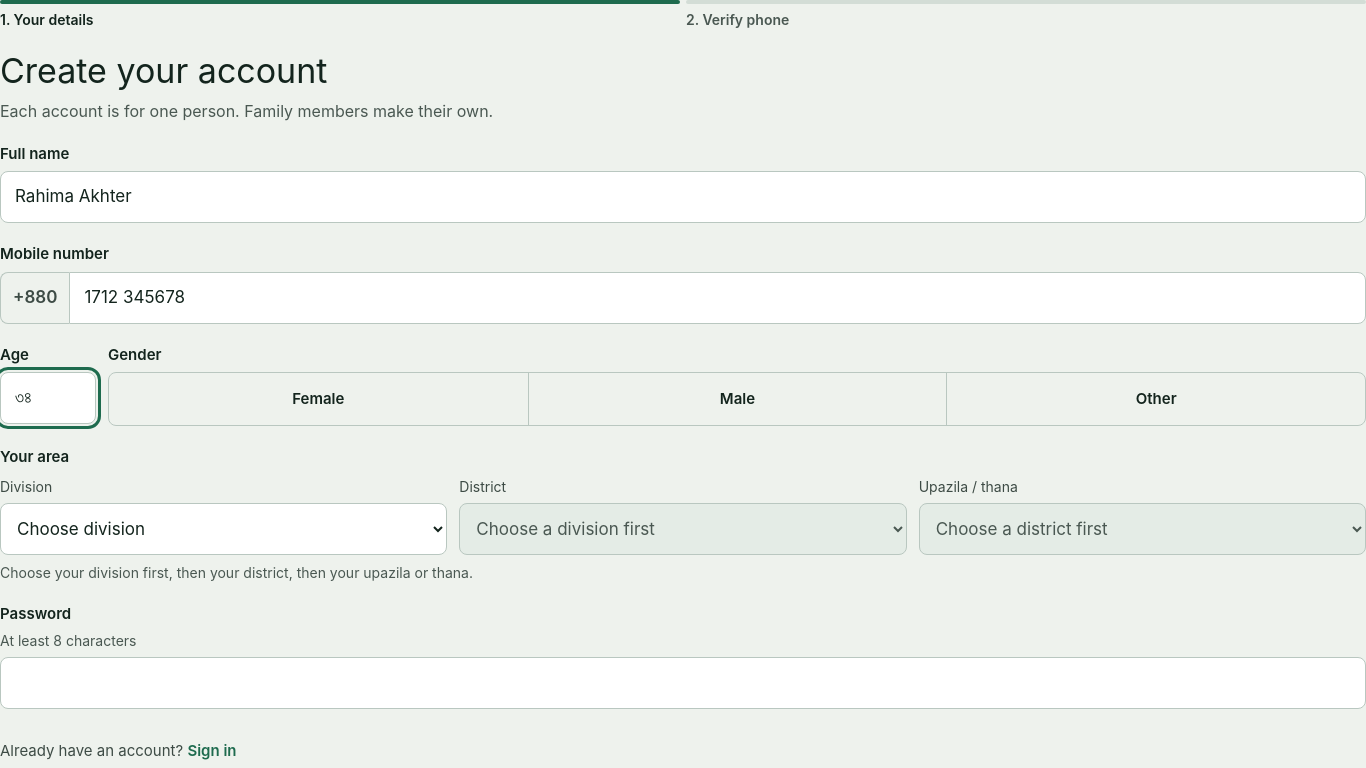
Test case: sign-up › shows the API's field errors in the page's language
Earlier steps of the test are not shown.
Step 1. Click the radio button labelled "Female" → [318, 398], box [292, 389, 344, 408]
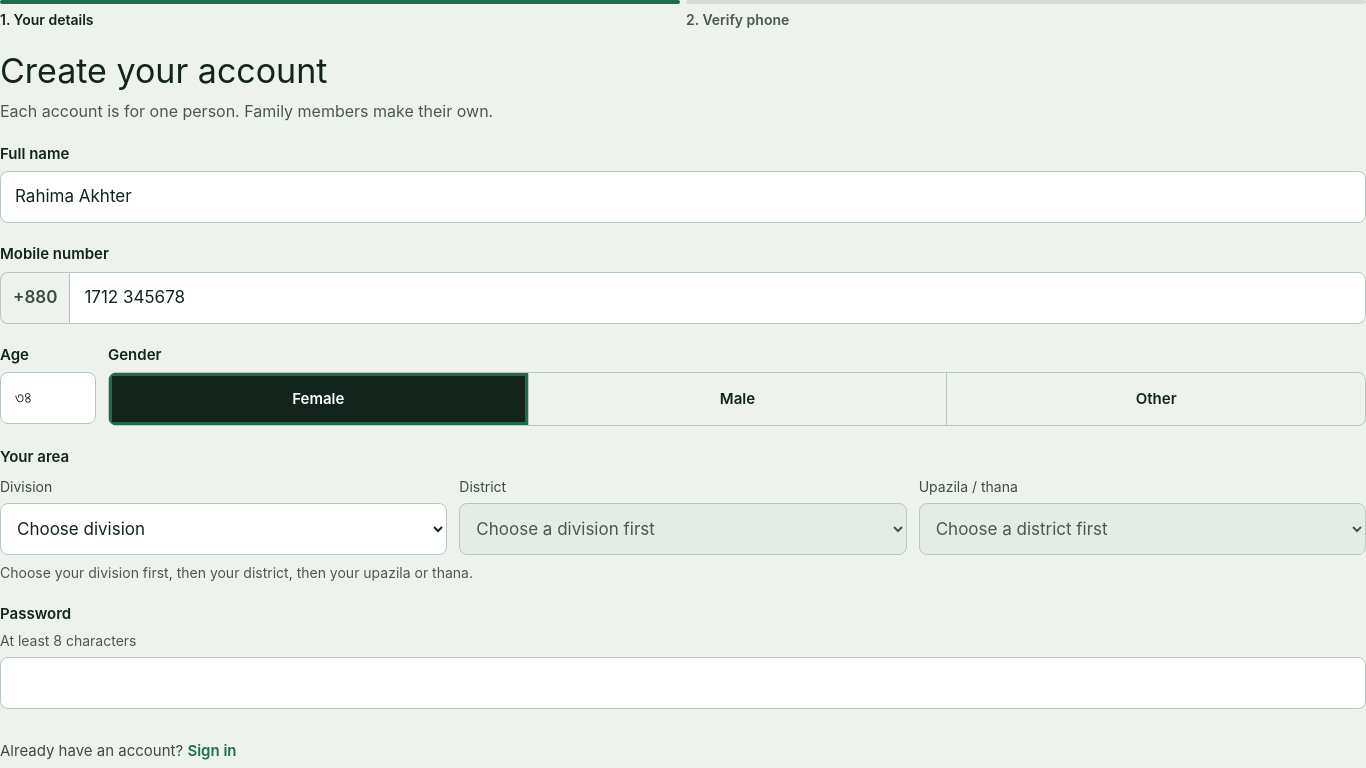
Step 2. Select "Dhaka" in the dropdown labelled "Division" → [224, 528], box [0, 502, 447, 554]
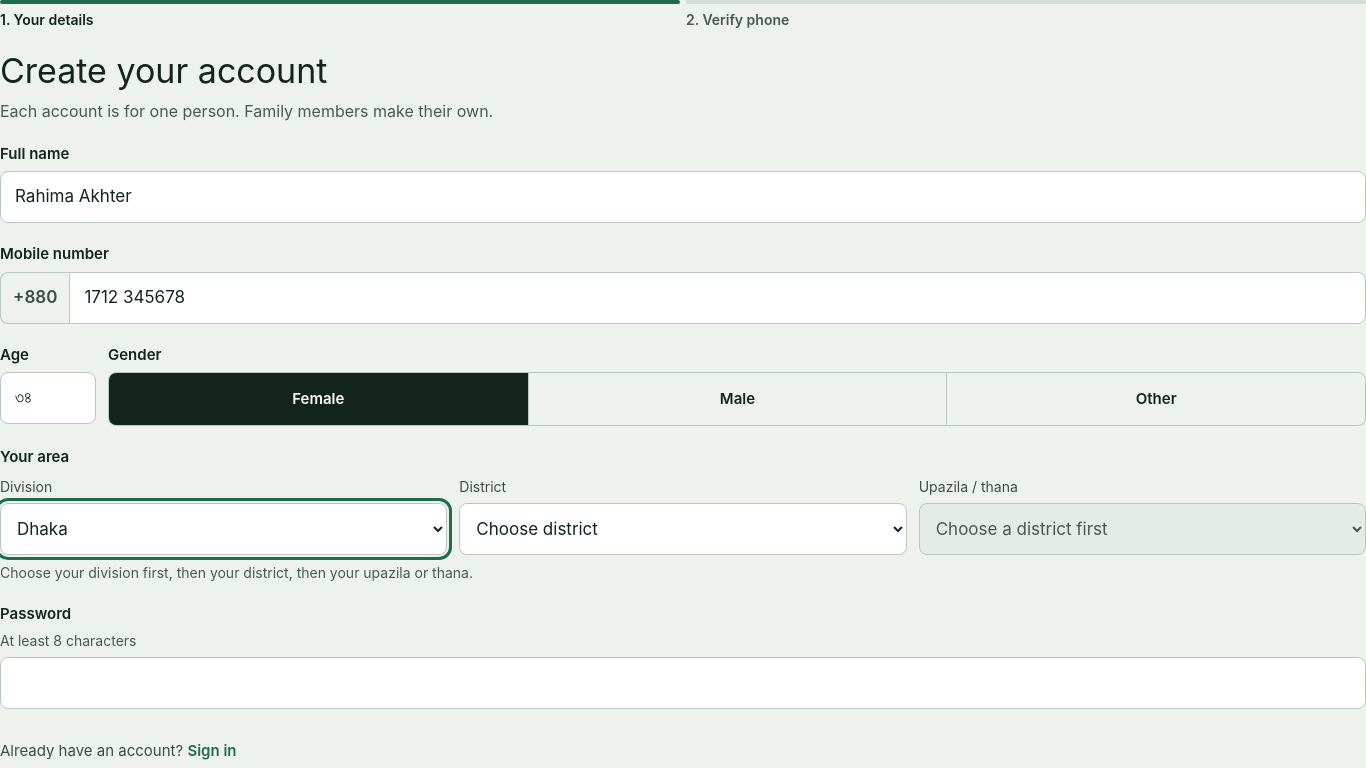
Now the dropdown labelled "District" is enabled
Step 3. Select "Gazipur" in the dropdown labelled "District" → [683, 528], box [459, 502, 907, 554]
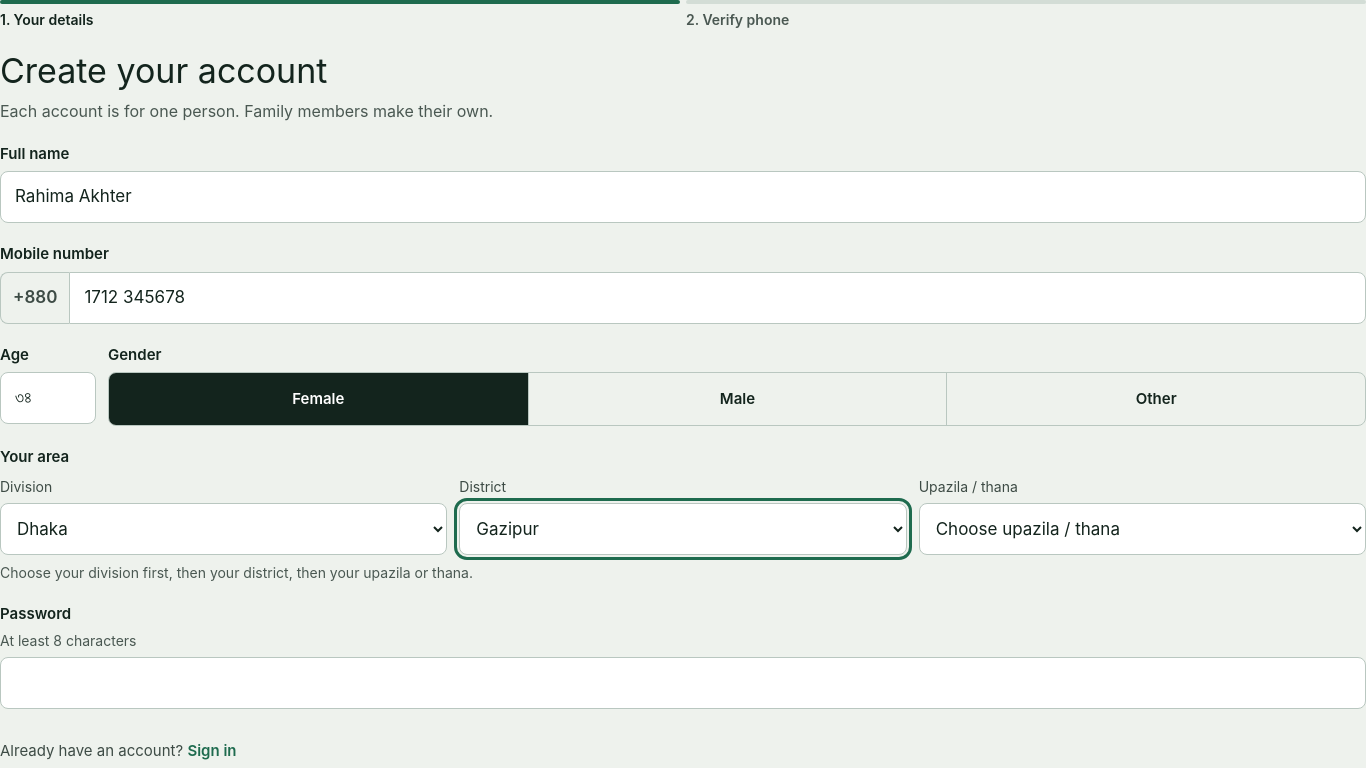
Now the dropdown labelled "Upazila / thana" is enabled
Step 4. Select "Kapasia" in the dropdown labelled "Upazila / thana" → [1142, 528], box [919, 502, 1365, 554]
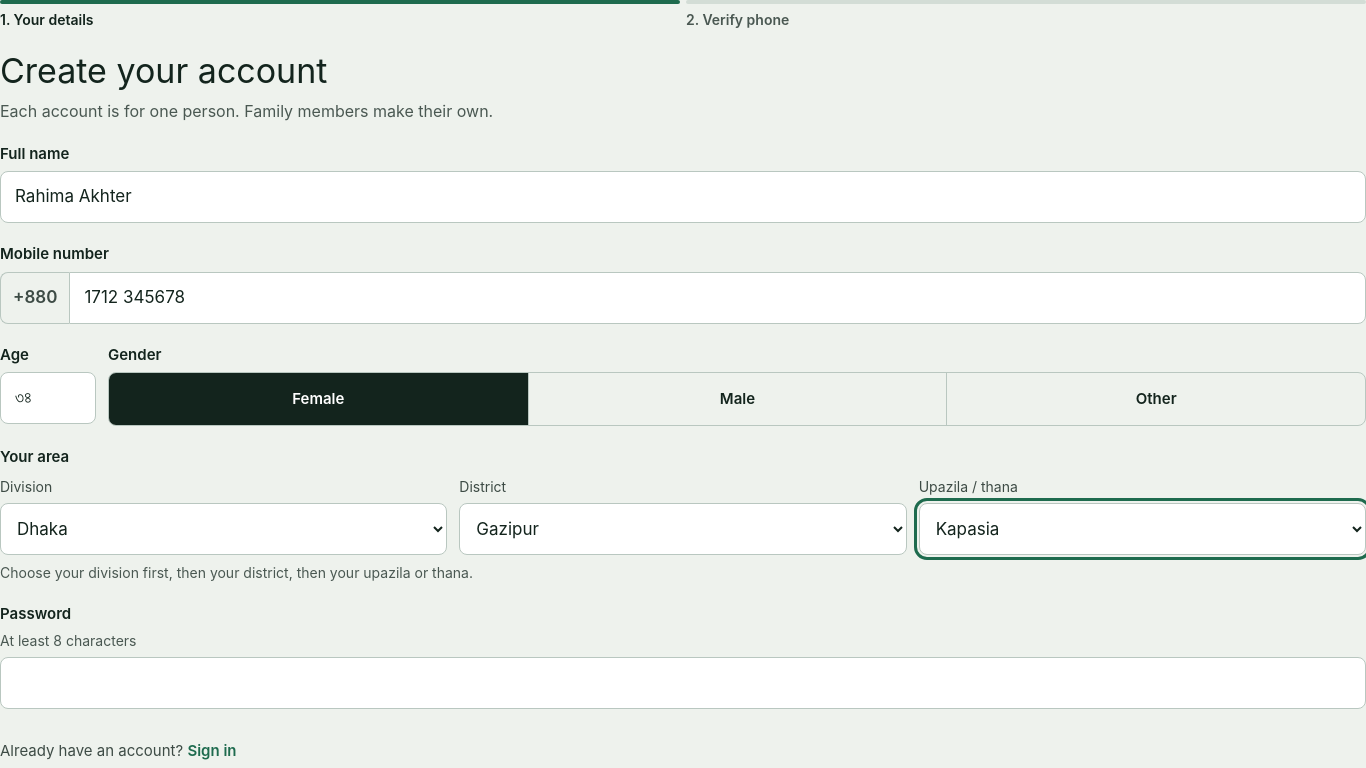
Step 5. Type "river-lamp-42-orchid" into the password field labelled "Password" → [683, 683], box [0, 657, 1365, 709]
(page scrolled)
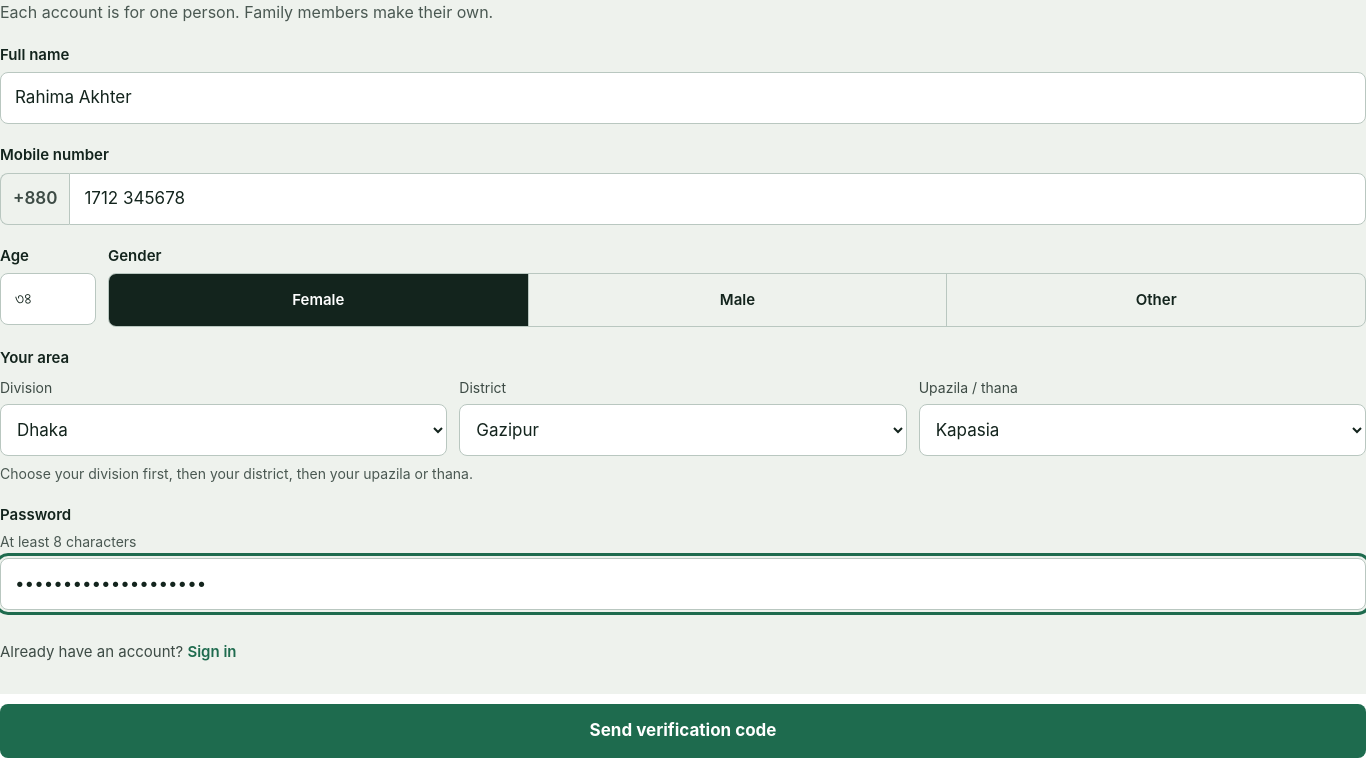
Step 6. Click the button "Send verification code" → [683, 731], box [0, 704, 1365, 758]
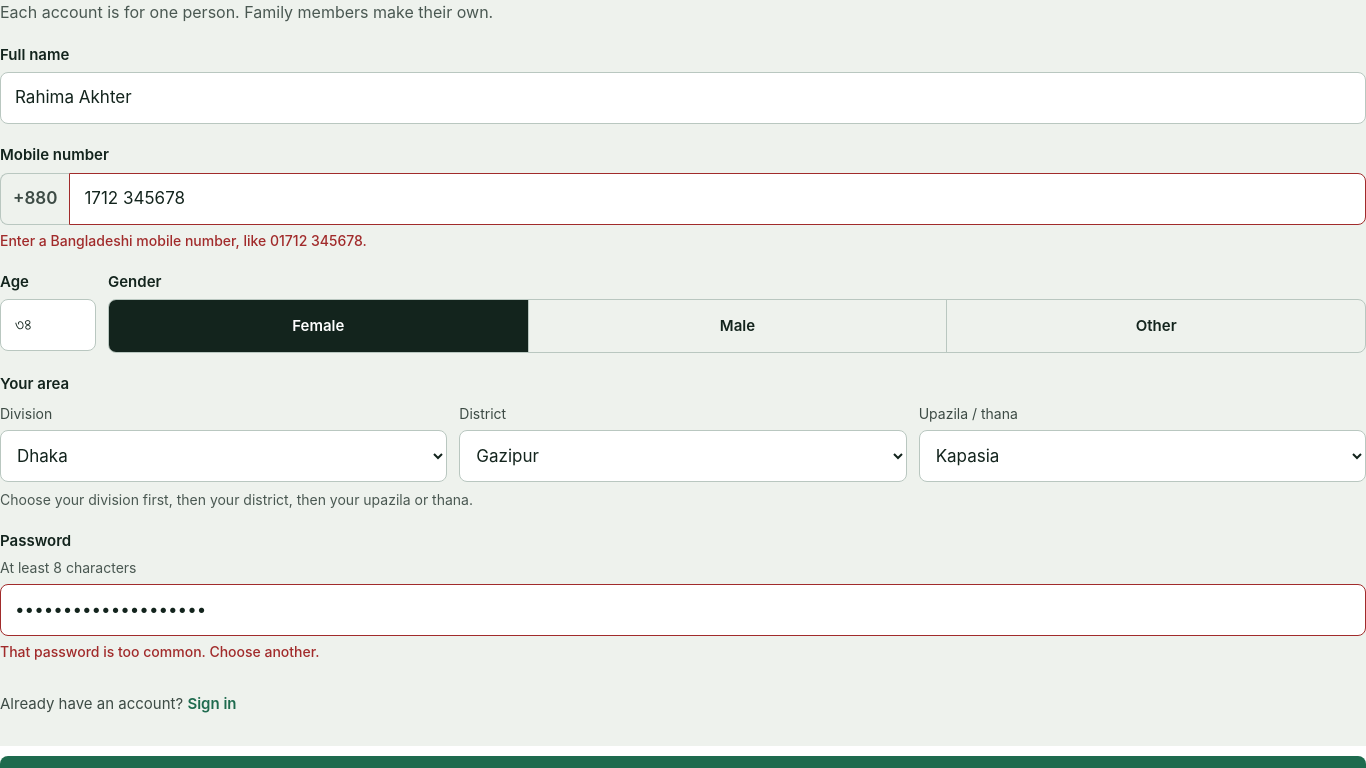
Now the text "Enter a Bangladeshi mobile number, like 01712 345678." is shown, box [0, 232, 367, 248]
Now the text "That password is too common. Choose another." is shown, box [0, 643, 320, 660]
